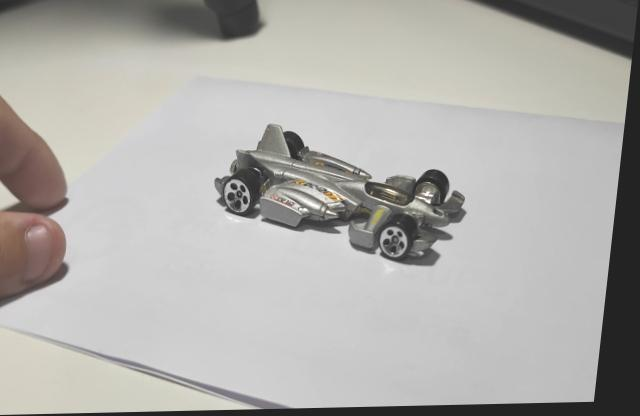05_DC121: (218, 126, 473, 270)
